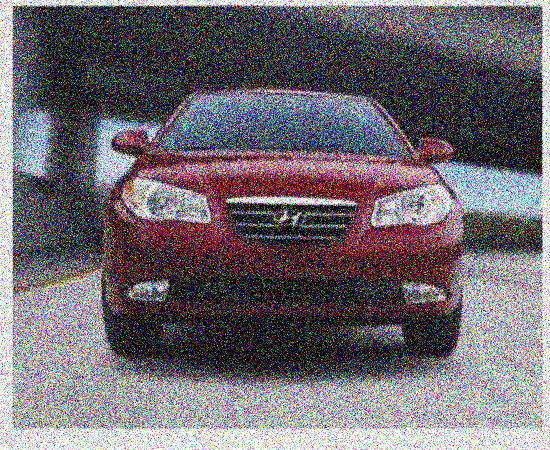car: (78, 79, 518, 381)
